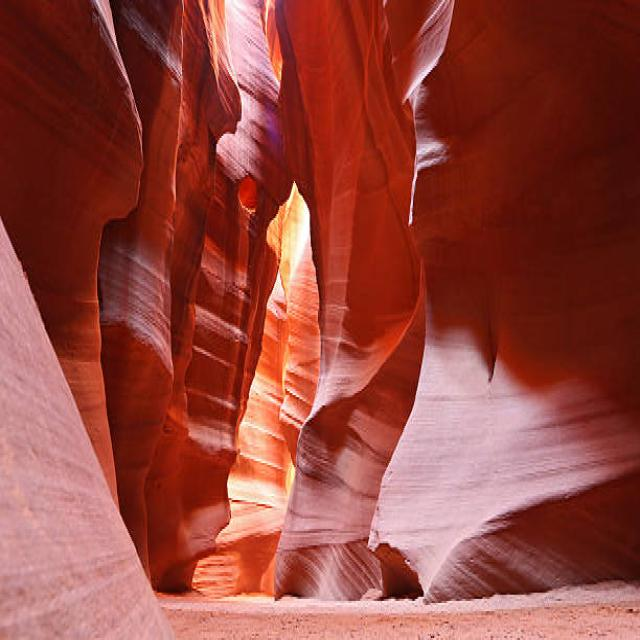Sedimentary: (1, 2, 640, 634)
